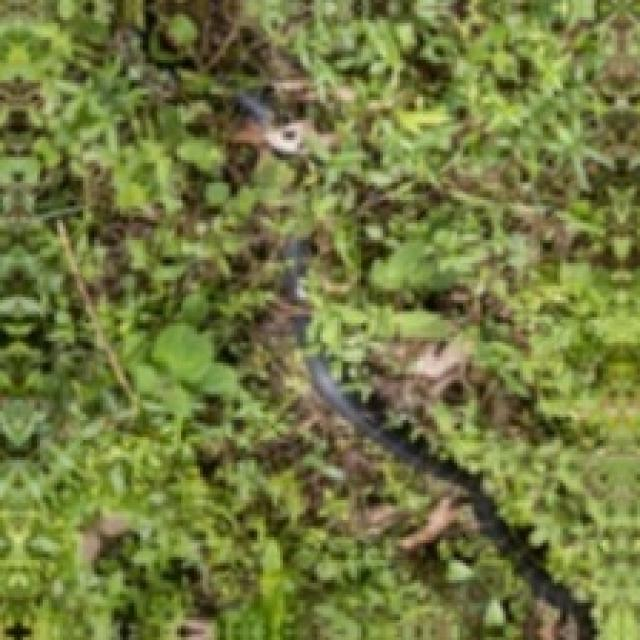king cobra: (309, 126, 603, 637), (586, 446, 634, 503), (560, 489, 591, 557), (440, 117, 494, 154)
